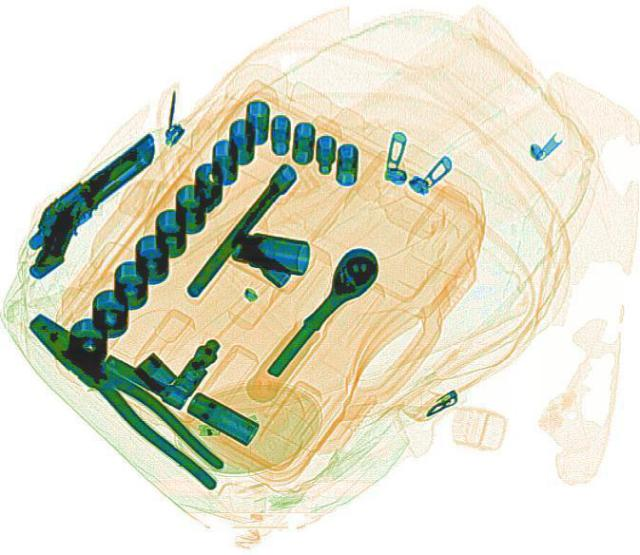Gun: (0, 134, 195, 272)
Pliers: (13, 305, 241, 492)
